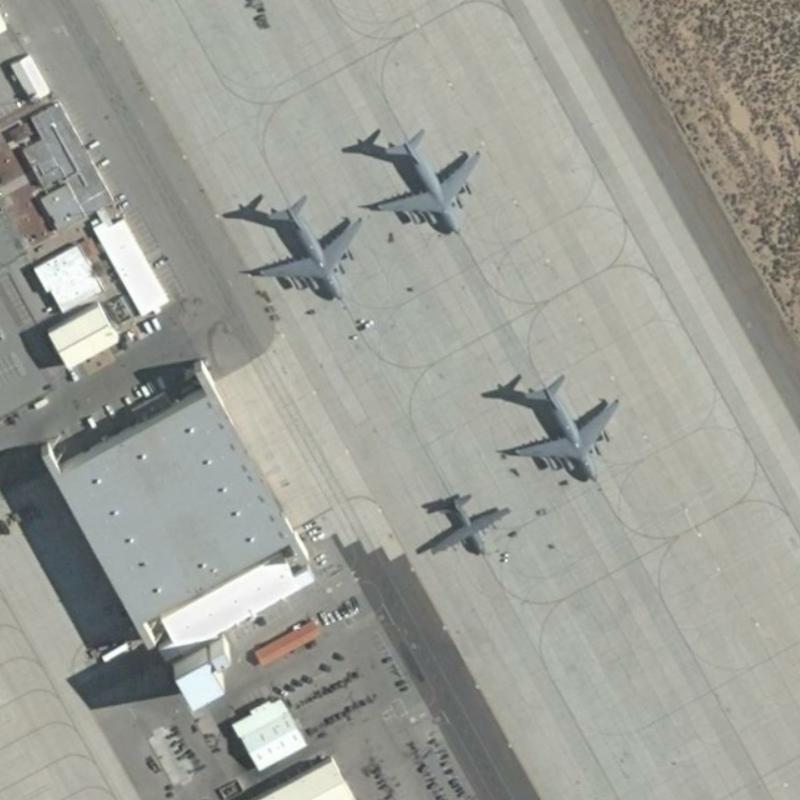A2: (413, 483, 512, 561)
A3: (496, 367, 624, 488), (356, 122, 488, 237), (237, 189, 364, 305)
